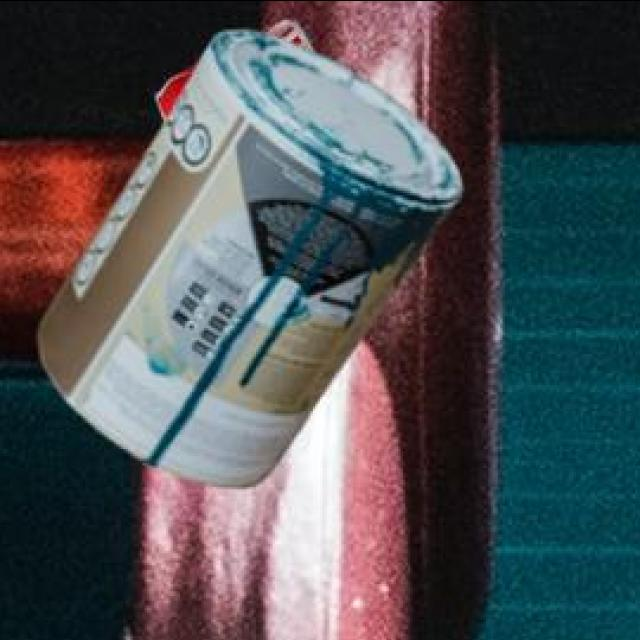logam: (41, 32, 466, 489), (187, 23, 319, 90), (160, 82, 188, 122)
